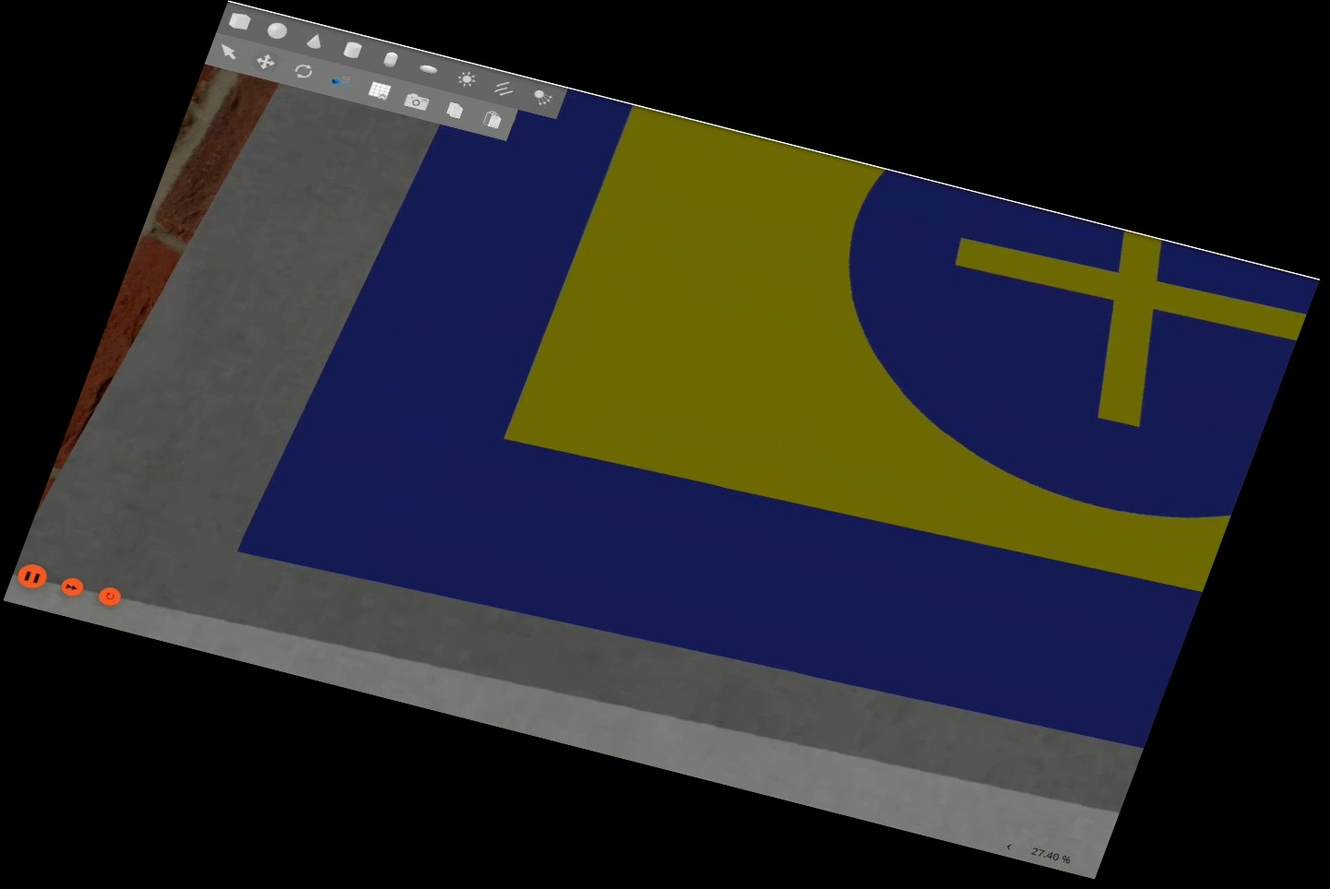large_base: (239, 51, 1318, 776)
